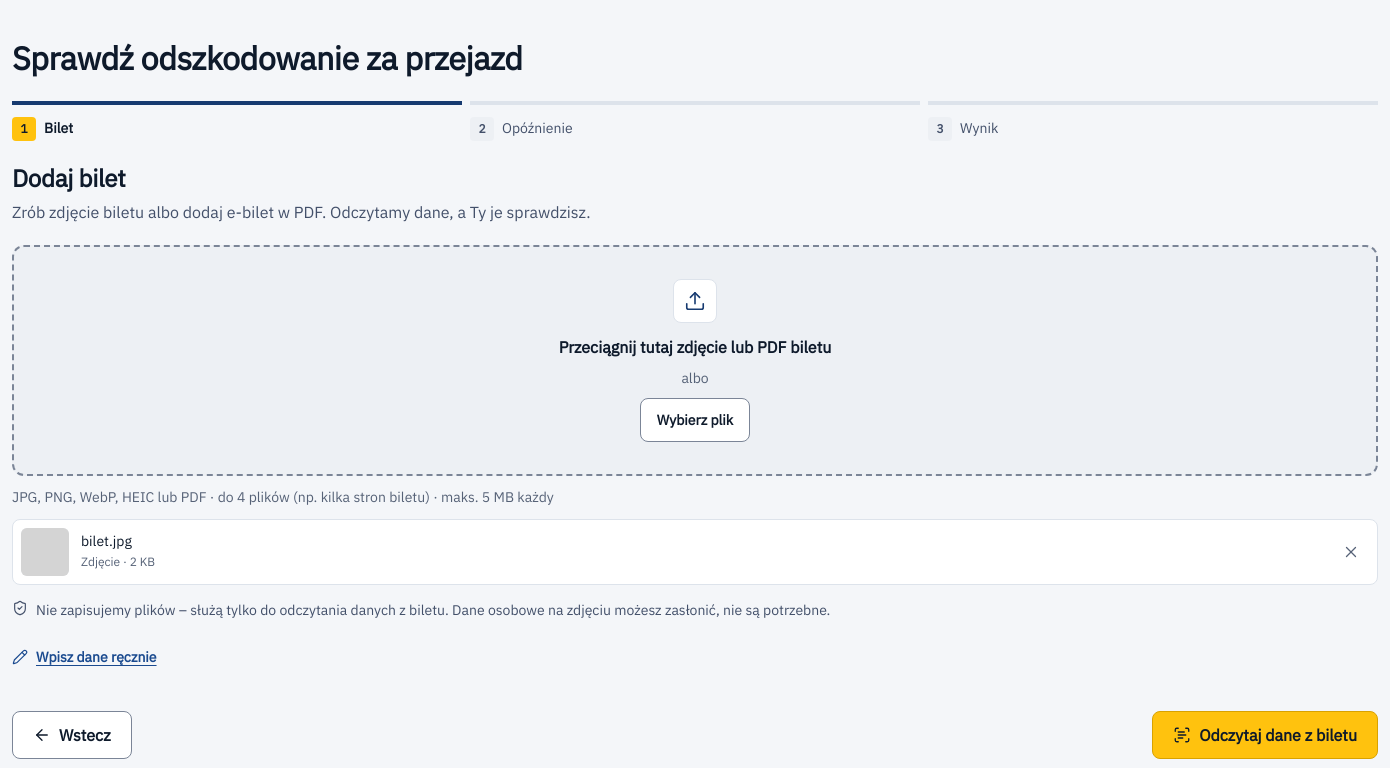
Test case: Wizard – ticket step › fills the form from the ticket and highlights what AI could not read
The width and height of the screenshot is (1390, 768).
Earlier steps of the test are not shown.
Click the button "Odczytaj dane z biletu". click: (1265, 736)
box: [1152,712,1378,760]
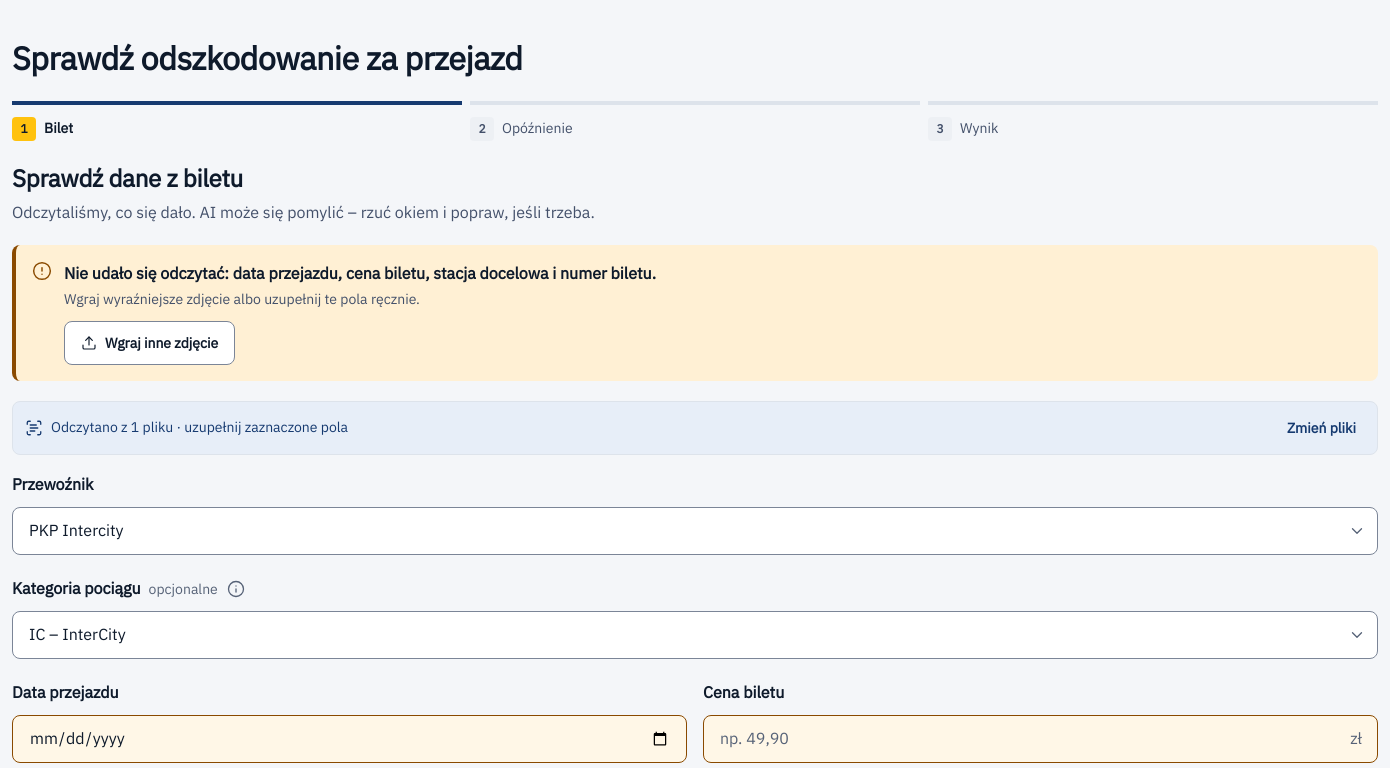
Expected: the dropdown labelled "Przewoźnik" shows "PKP Intercity", [12,507,1378,555]
Type "2025-06-01" into the date field labelled "Data przejazdu". click: (350, 739)
box: [12,715,687,763]
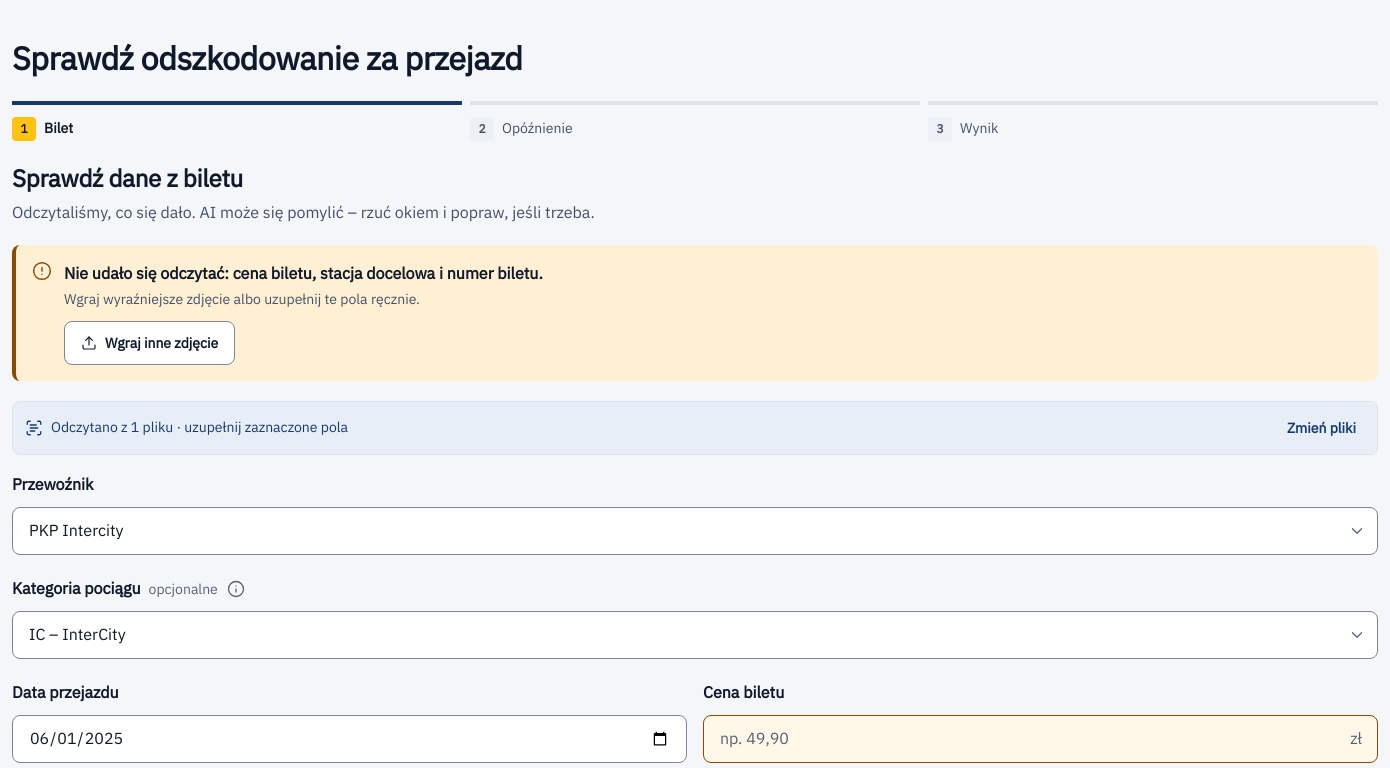
Type "120" into the field labelled "Cena biletu". click: (1040, 739)
box: [703,715,1378,763]
(page scrolled)
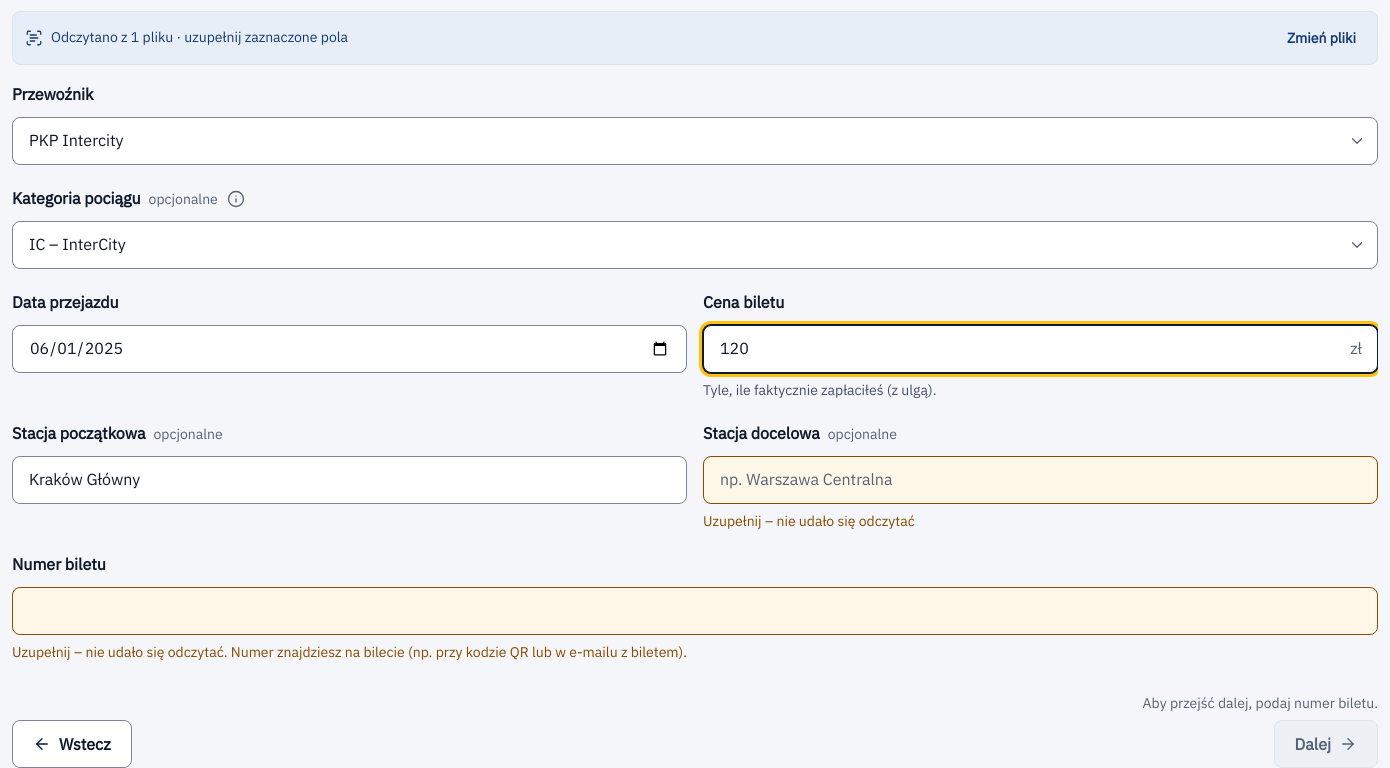
Type "IC-1" into the field labelled "Numer biletu". click: (695, 611)
box: [12,587,1378,635]
(page scrolled)
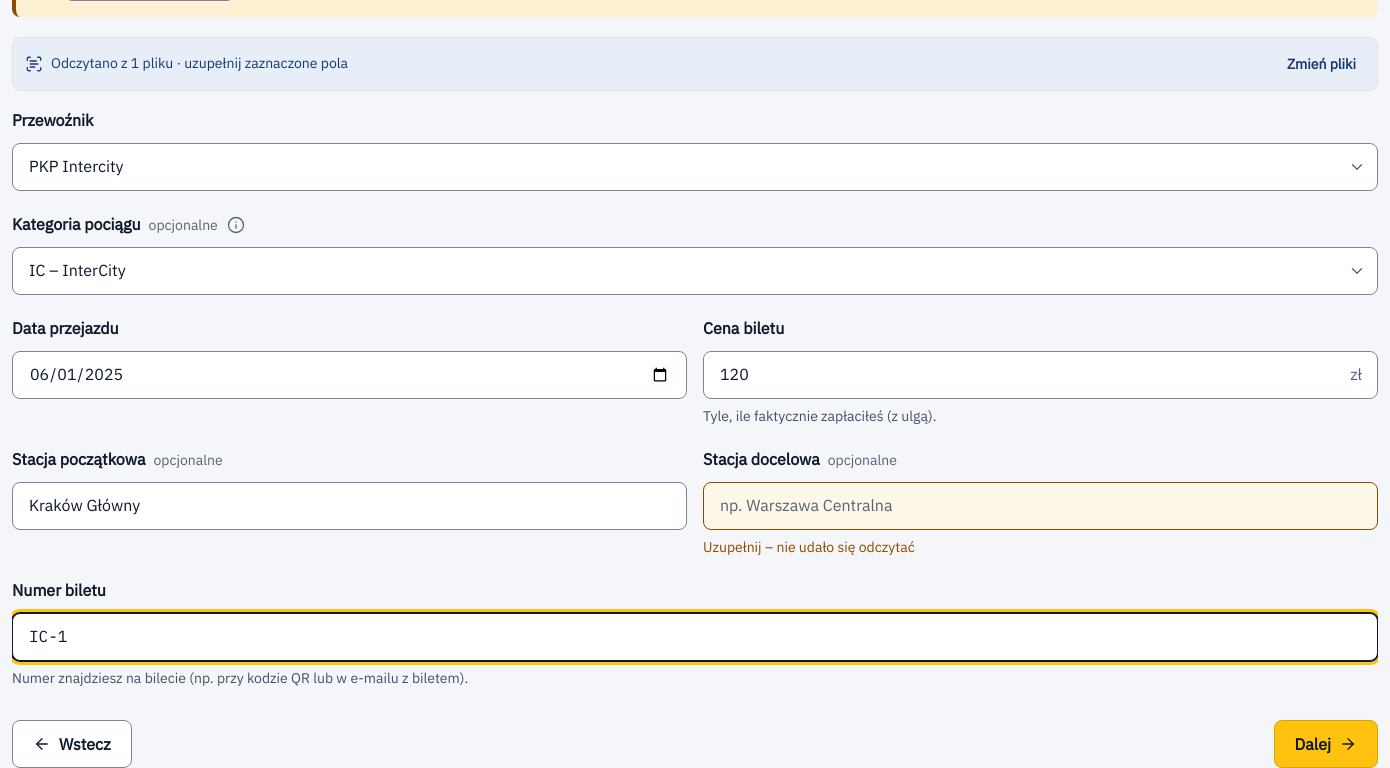
Expected: the button "Dalej" is enabled, [1274,720,1378,767]
